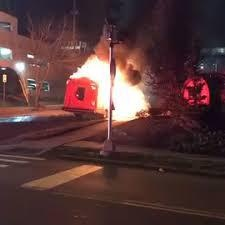fire: (69, 53, 150, 122)
